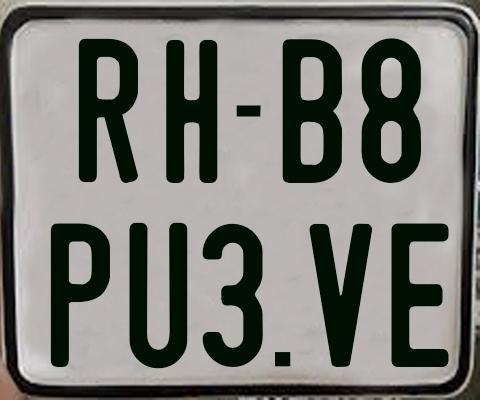3: (200, 223, 260, 371)
8: (360, 37, 425, 185)
B: (280, 39, 341, 183)
E: (390, 223, 454, 368)
H: (163, 38, 218, 184)
P: (50, 223, 109, 367)
R: (79, 36, 139, 182)
U: (129, 220, 187, 368)
V: (306, 223, 370, 367)
